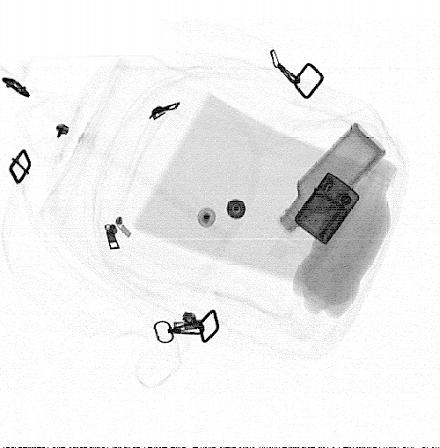Lighter: (294, 172, 361, 246)
